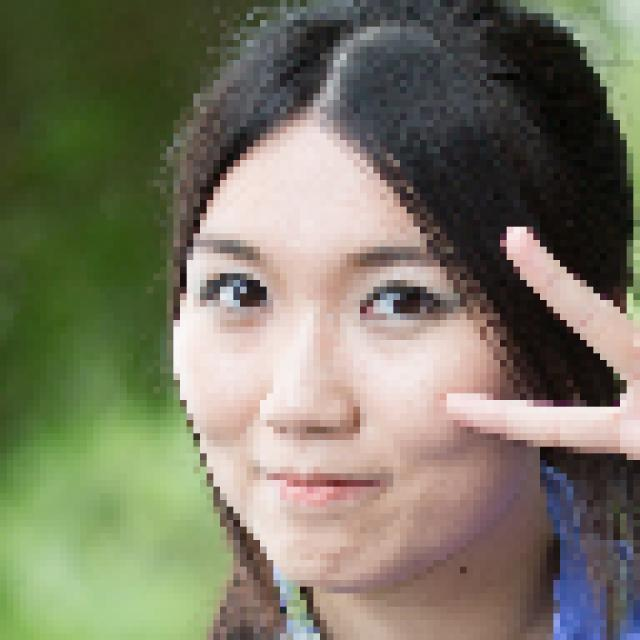happy: (143, 112, 537, 626)
